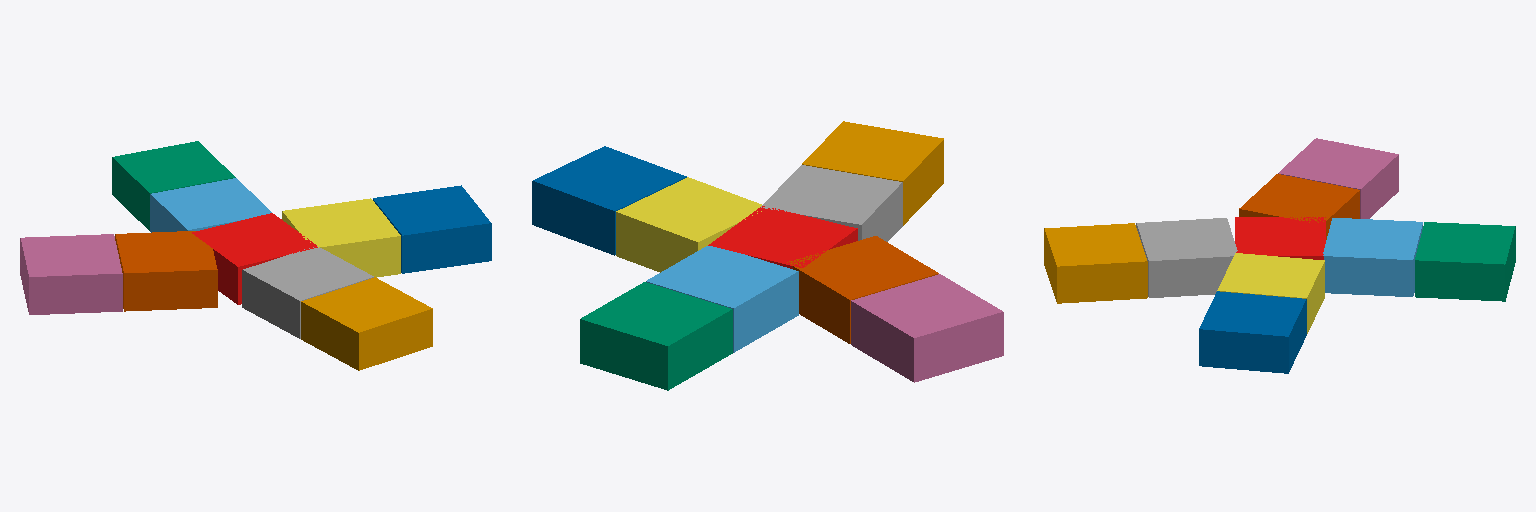
robot.urdf — Model_Models/Model_97.urdf4:
<?xml version='1.0' encoding='UTF-8'?>
<robot name="Model_Models/Model_97.urdf4">
  <link name="base_link">
    <inertial>
      <origin xyz="0.0 0.0 0.0" rpy="0.0 -0.0 0.0"/>
      <mass value="1.0"/>
      <inertia ixx="1.0" ixy="0.0" ixz="0.0" iyy="1.0" iyz="0.0" izz="1.0"/>
    </inertial>
    <visual>
      <geometry>
        <box size="0.67 0.67 0.3 "/>
      </geometry>
      <material name="red"/>
      <origin xyz="0.0 0.0 0.0" rpy="0.0 -0.0 0.0"/>
    </visual>
    <collision>
      <geometry>
        <box size="0.67 0.67 0.3 "/>
      </geometry>
      <origin xyz="0.0 0.0 0.0" rpy="0.0 0.0 0.0"/>
    </collision>
  </link>
  <link name="arm_0_arm1">
    <inertial>
      <origin xyz="0.0 0.34 0.0" rpy="0.0 0.0 0.0"/>
      <mass value="1.0"/>
      <inertia ixx="0.0" ixy="0.0" ixz="0.0" iyy="0.0" iyz="0.0" izz="0.0"/>
    </inertial>
    <visual>
      <geometry>
        <box size="0.67 0.67 0.3 "/>
      </geometry>
      <origin xyz="0.0 0.34 0.0" rpy="0.0 0.0 0.0"/>
    </visual>
    <collision>
      <geometry>
        <box size="0.67 0.67 0.3 "/>
      </geometry>
      <origin xyz="0.0 0.34 0.0" rpy="0.0 0.0 0.0"/>
    </collision>
  </link>
  <link name="arm_0_arm2">
    <inertial>
      <origin xyz="0.0 0.34 0.0" rpy="0.0 0.0 0.0"/>
      <mass value="1.0"/>
      <inertia ixx="0.0" ixy="0.0" ixz="0.0" iyy="0.0" iyz="0.0" izz="0.0"/>
    </inertial>
    <visual>
      <geometry>
        <box size="0.67 0.67 0.3 "/>
      </geometry>
      <origin xyz="0.0 0.34 0.0" rpy="0.0 0.0 0.0"/>
    </visual>
    <collision>
      <geometry>
        <box size="0.67 0.67 0.3 "/>
      </geometry>
      <origin xyz="0.0 0.34 0.0" rpy="0.0 0.0 0.0"/>
    </collision>
  </link>
  <link name="arm_2_arm1">
    <inertial>
      <origin xyz="0.0 0.34 0.0" rpy="0.0 0.0 0.0"/>
      <mass value="1.0"/>
      <inertia ixx="0.0" ixy="0.0" ixz="0.0" iyy="0.0" iyz="0.0" izz="0.0"/>
    </inertial>
    <visual>
      <geometry>
        <box size="0.67 0.67 0.3 "/>
      </geometry>
      <origin xyz="0.0 0.34 0.0" rpy="0.0 0.0 0.0"/>
    </visual>
    <collision>
      <geometry>
        <box size="0.67 0.67 0.3 "/>
      </geometry>
      <origin xyz="0.0 0.34 0.0" rpy="0.0 0.0 0.0"/>
    </collision>
  </link>
  <link name="arm_2_arm2">
    <inertial>
      <origin xyz="0.0 0.34 0.0" rpy="0.0 0.0 0.0"/>
      <mass value="1.0"/>
      <inertia ixx="0.0" ixy="0.0" ixz="0.0" iyy="0.0" iyz="0.0" izz="0.0"/>
    </inertial>
    <visual>
      <geometry>
        <box size="0.67 0.67 0.3 "/>
      </geometry>
      <origin xyz="0.0 0.34 0.0" rpy="0.0 0.0 0.0"/>
    </visual>
    <collision>
      <geometry>
        <box size="0.67 0.67 0.3 "/>
      </geometry>
      <origin xyz="0.0 0.34 0.0" rpy="0.0 0.0 0.0"/>
    </collision>
  </link>
  <link name="arm_3_arm1">
    <inertial>
      <origin xyz="0.0 0.34 0.0" rpy="0.0 0.0 0.0"/>
      <mass value="1.0"/>
      <inertia ixx="0.0" ixy="0.0" ixz="0.0" iyy="0.0" iyz="0.0" izz="0.0"/>
    </inertial>
    <visual>
      <geometry>
        <box size="0.67 0.67 0.3 "/>
      </geometry>
      <origin xyz="0.0 0.34 0.0" rpy="0.0 0.0 0.0"/>
    </visual>
    <collision>
      <geometry>
        <box size="0.67 0.67 0.3 "/>
      </geometry>
      <origin xyz="0.0 0.34 0.0" rpy="0.0 0.0 0.0"/>
    </collision>
  </link>
  <link name="arm_3_arm2">
    <inertial>
      <origin xyz="0.0 0.34 0.0" rpy="0.0 0.0 0.0"/>
      <mass value="1.0"/>
      <inertia ixx="0.0" ixy="0.0" ixz="0.0" iyy="0.0" iyz="0.0" izz="0.0"/>
    </inertial>
    <visual>
      <geometry>
        <box size="0.67 0.67 0.3 "/>
      </geometry>
      <origin xyz="0.0 0.34 0.0" rpy="0.0 0.0 0.0"/>
    </visual>
    <collision>
      <geometry>
        <box size="0.67 0.67 0.3 "/>
      </geometry>
      <origin xyz="0.0 0.34 0.0" rpy="0.0 0.0 0.0"/>
    </collision>
  </link>
  <link name="arm_Permutation_4_arm1">
    <inertial>
      <origin xyz="0.0 0.34 0.0" rpy="0.0 0.0 0.0"/>
      <mass value="1.0"/>
      <inertia ixx="0.0" ixy="0.0" ixz="0.0" iyy="0.0" iyz="0.0" izz="0.0"/>
    </inertial>
    <visual>
      <geometry>
        <box size="0.67 0.67 0.3 "/>
      </geometry>
      <origin xyz="0.0 0.34 0.0" rpy="0.0 0.0 0.0"/>
    </visual>
    <collision>
      <geometry>
        <box size="0.67 0.67 0.3 "/>
      </geometry>
      <origin xyz="0.0 0.34 0.0" rpy="0.0 0.0 0.0"/>
    </collision>
  </link>
  <link name="arm_Permutation_4_arm2">
    <inertial>
      <origin xyz="0.0 0.34 0.0" rpy="0.0 0.0 0.0"/>
      <mass value="1.0"/>
      <inertia ixx="0.0" ixy="0.0" ixz="0.0" iyy="0.0" iyz="0.0" izz="0.0"/>
    </inertial>
    <visual>
      <geometry>
        <box size="0.67 0.67 0.3 "/>
      </geometry>
      <origin xyz="0.0 0.34 0.0" rpy="0.0 0.0 0.0"/>
    </visual>
    <collision>
      <geometry>
        <box size="0.67 0.67 0.3 "/>
      </geometry>
      <origin xyz="0.0 0.34 0.0" rpy="0.0 0.0 0.0"/>
    </collision>
  </link>
  <joint name="arm_0_jointBase" type="fixed">
    <limit effort="1.57" velocity="1.57" lower="-1.57" upper="1.57"/>
    <parent link="base_link"/>
    <child link="arm_0_arm1"/>
    <axis xyz="1. 0. 0."/>
    <origin xyz="0.0 0.34 0.0" rpy="0.0 0.0 -0.11"/>
  </joint>
  <joint name="arm_0_joint1" type="revolute">
    <limit effort="1.57" velocity="1.57" lower="-1.57" upper="1.57"/>
    <parent link="arm_0_arm1"/>
    <child link="arm_0_arm2"/>
    <axis xyz="1. 0. 0."/>
    <origin xyz="0.0 0.68 0.0" rpy="0.0 0.0 0.0"/>
  </joint>
  <joint name="arm_2_jointBase" type="fixed">
    <limit effort="1.57" velocity="1.57" lower="-1.57" upper="1.57"/>
    <parent link="base_link"/>
    <child link="arm_2_arm1"/>
    <axis xyz="1. 0. 0."/>
    <origin xyz="0.34 0.0 0.0" rpy="0.0 0.0 -1.77"/>
  </joint>
  <joint name="arm_2_joint1" type="revolute">
    <limit effort="1.57" velocity="1.57" lower="-1.57" upper="1.57"/>
    <parent link="arm_2_arm1"/>
    <child link="arm_2_arm2"/>
    <axis xyz="1. 0. 0."/>
    <origin xyz="0.0 0.68 0.0" rpy="0.0 0.0 0.0"/>
  </joint>
  <joint name="arm_3_jointBase" type="fixed">
    <limit effort="1.57" velocity="1.57" lower="-1.57" upper="1.57"/>
    <parent link="base_link"/>
    <child link="arm_3_arm1"/>
    <axis xyz="1. 0. 0."/>
    <origin xyz="-0.34 0.0 0.0" rpy="0.0 0.0 1.14"/>
  </joint>
  <joint name="arm_3_joint1" type="revolute">
    <limit effort="1.57" velocity="1.57" lower="-1.57" upper="1.57"/>
    <parent link="arm_3_arm1"/>
    <child link="arm_3_arm2"/>
    <axis xyz="1. 0. 0."/>
    <origin xyz="0.0 0.68 0.0" rpy="0.0 0.0 0.0"/>
  </joint>
  <joint name="arm_Permutation_4_jointBase" type="fixed">
    <limit effort="1.57" velocity="1.57" lower="-1.57" upper="1.57"/>
    <parent link="base_link"/>
    <child link="arm_Permutation_4_arm1"/>
    <axis xyz="1. 0. 0."/>
    <origin xyz="0.0 -0.34 0.0" rpy="0.0 0.0 -3.003185307179587"/>
  </joint>
  <joint name="arm_Permutation_4_joint1" type="revolute">
    <limit effort="1.57" velocity="1.57" lower="-1.57" upper="1.57"/>
    <parent link="arm_Permutation_4_arm1"/>
    <child link="arm_Permutation_4_arm2"/>
    <axis xyz="1. 0. 0."/>
    <origin xyz="0.0 0.68 0.0" rpy="0.0 0.0 0.0"/>
  </joint>
  <material name="red">
    <color rgba="0.969 0.129 0.122 1.   "/>
  </material>
</robot>

--- Facts derived from the render (not from the file) ---
3 views of the same robot in one strip: view 1: azimuth 30°, elevation 25°; view 2: azimuth 150°, elevation 25°; view 3: azimuth 270°, elevation 25° (orthographic).
Robot: Model_Models/Model_97.urdf4 — 9 links, 8 joints (4 revolute, 4 fixed); root link base_link; default pose: all joints at 0.
Links seen in each view (by area): view 1: arm_Permutation_4_arm2, arm_3_arm2, arm_2_arm2, arm_3_arm1, arm_Permutation_4_arm1, arm_2_arm1, arm_0_arm2, base_link, arm_0_arm1; view 2: arm_3_arm2, arm_0_arm2, arm_2_arm2, arm_2_arm1, arm_0_arm1, arm_3_arm1, arm_Permutation_4_arm2, arm_Permutation_4_arm1, base_link; view 3: arm_2_arm2, arm_Permutation_4_arm2, arm_0_arm2, arm_0_arm1, arm_Permutation_4_arm1, arm_3_arm2, arm_2_arm1, arm_3_arm1, base_link.
Link boxes in pixels (left/top/right/bottom): arm_Permutation_4_arm2: left=301, top=277, right=432, bottom=370; arm_3_arm2: left=20, top=234, right=122, bottom=314; arm_2_arm2: left=373, top=185, right=491, bottom=273; arm_3_arm1: left=115, top=231, right=217, bottom=311; arm_Permutation_4_arm1: left=242, top=246, right=373, bottom=338; arm_2_arm1: left=282, top=198, right=400, bottom=277; arm_0_arm2: left=112, top=141, right=235, bottom=230; base_link: left=192, top=213, right=317, bottom=304; arm_0_arm1: left=150, top=178, right=271, bottom=232; arm_3_arm2: left=851, top=274, right=1003, bottom=382; arm_0_arm2: left=580, top=282, right=732, bottom=390; arm_2_arm2: left=532, top=146, right=686, bottom=255; arm_2_arm1: left=616, top=177, right=761, bottom=272; arm_0_arm1: left=646, top=246, right=798, bottom=352; arm_3_arm1: left=787, top=236, right=938, bottom=343; arm_Permutation_4_arm2: left=802, top=121, right=943, bottom=225; arm_Permutation_4_arm1: left=761, top=165, right=902, bottom=241; base_link: left=708, top=206, right=857, bottom=268; arm_2_arm2: left=1199, top=291, right=1306, bottom=373; arm_Permutation_4_arm2: left=1044, top=223, right=1147, bottom=303; arm_0_arm2: left=1415, top=222, right=1515, bottom=301; arm_0_arm1: left=1323, top=218, right=1422, bottom=296; arm_Permutation_4_arm1: left=1136, top=218, right=1237, bottom=297; arm_3_arm2: left=1278, top=138, right=1398, bottom=218; arm_2_arm1: left=1217, top=253, right=1324, bottom=333; arm_3_arm1: left=1239, top=174, right=1359, bottom=239; base_link: left=1235, top=217, right=1325, bottom=259.
Size in the robot's own frame: 3.45 by 3.45 by 0.3 metres.
Geometry: primitives only (box / cylinder / sphere), no mesh files.